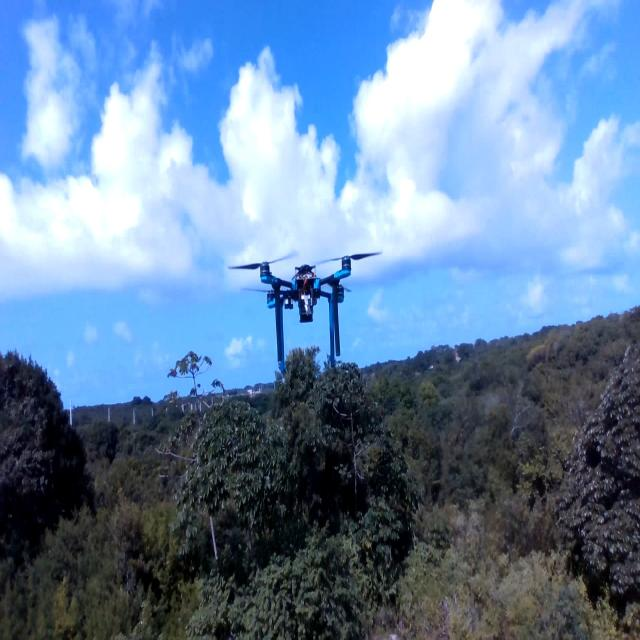-uav-: (220, 233, 384, 406)
